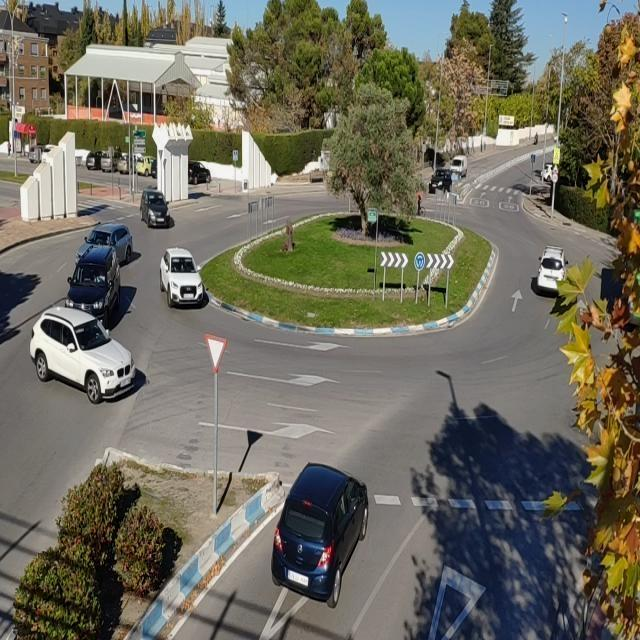Car: (271, 460, 367, 610), (28, 306, 136, 402), (63, 251, 131, 318), (160, 247, 207, 308), (79, 222, 133, 265), (535, 247, 568, 295), (139, 188, 172, 228), (429, 170, 453, 192), (133, 155, 157, 177), (188, 162, 211, 184), (86, 150, 111, 170), (542, 162, 558, 183), (28, 145, 44, 164)
Van: (450, 157, 471, 179)
